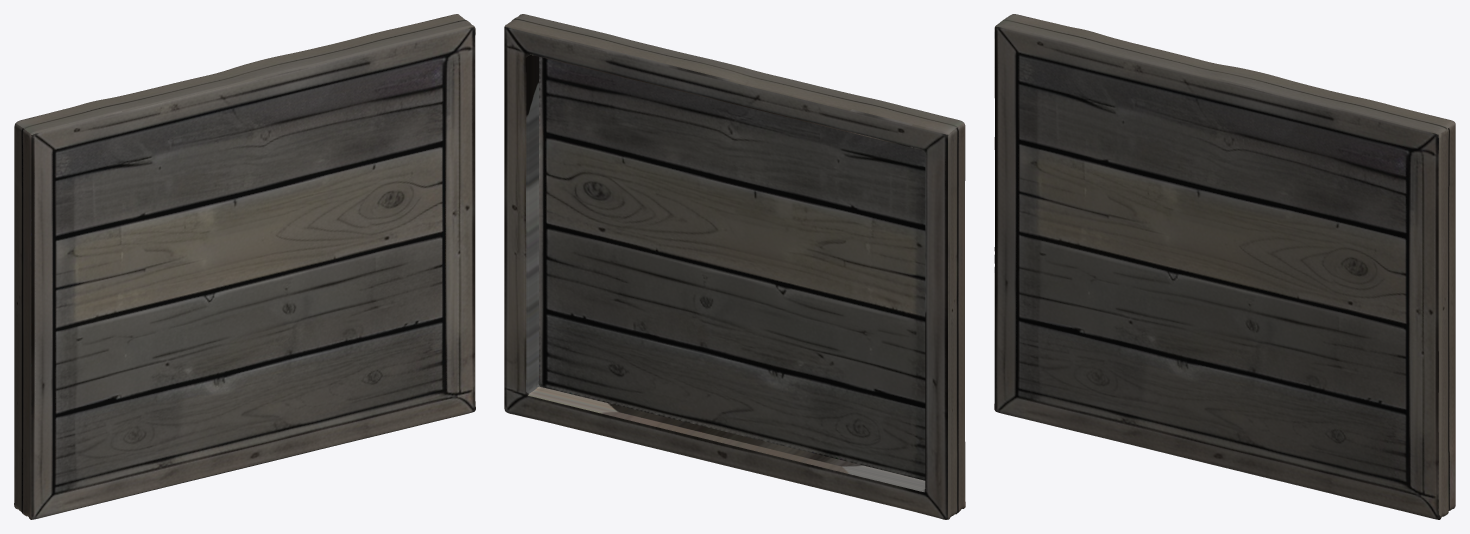
File: Wall-Timber-1.glb
3 renders of one model, left to right at view 1: azimuth 30°, elevation 25°; view 2: azimuth 150°, elevation 25°; view 3: azimuth 330°, elevation 25°, orthographic.
Parts seen in each view (by area): view 1: tmp_7z6k18_.ply; view 2: tmp_7z6k18_.ply; view 3: tmp_7z6k18_.ply.
Part boxes in pixels (left/top/right/bottom): tmp_7z6k18_.ply: left=14, top=14, right=475, bottom=519; tmp_7z6k18_.ply: left=504, top=14, right=965, bottom=519; tmp_7z6k18_.ply: left=994, top=14, right=1455, bottom=519.
Bounding box in the file's own units: 3 × 2.5 × 0.2.
Materials: 1 (1 with a texture image).
